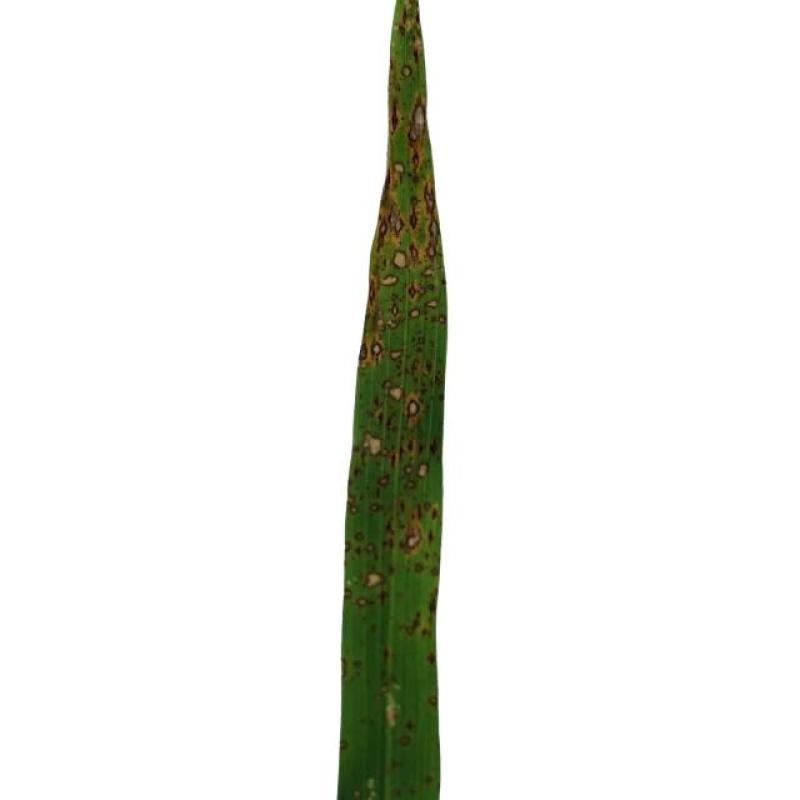Leaf_Blast: (401, 1, 421, 60), (401, 528, 426, 552), (362, 573, 386, 595), (362, 434, 382, 458), (402, 401, 420, 421), (381, 272, 401, 288), (395, 250, 415, 266)
